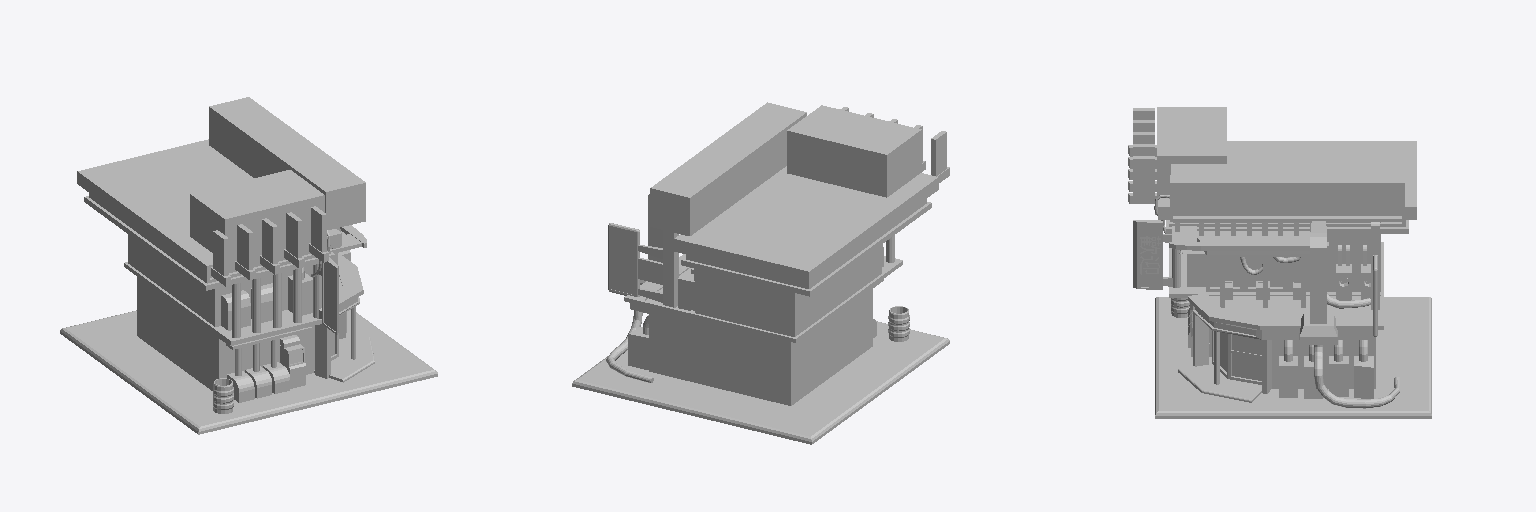
The model's file is resM.obj.
The picture shows the model from 3 angles: view 1: azimuth 30°, elevation 25°; view 2: azimuth 150°, elevation 25°; view 3: azimuth 270°, elevation 25°; orthographic projection.
Visible parts, largest first — view 1: Plane, Circle; view 2: Plane; view 3: Plane, Text.
Boxes of the visible parts, box(x1,y1,x2,y2) form: Plane: box(60, 97, 437, 434); Circle: box(232, 264, 321, 337); Plane: box(572, 102, 949, 444); Plane: box(1128, 107, 1431, 418); Text: box(1191, 186, 1388, 211).
Bounding box in the file's own units: 60.02 × 49.8 × 65.97.